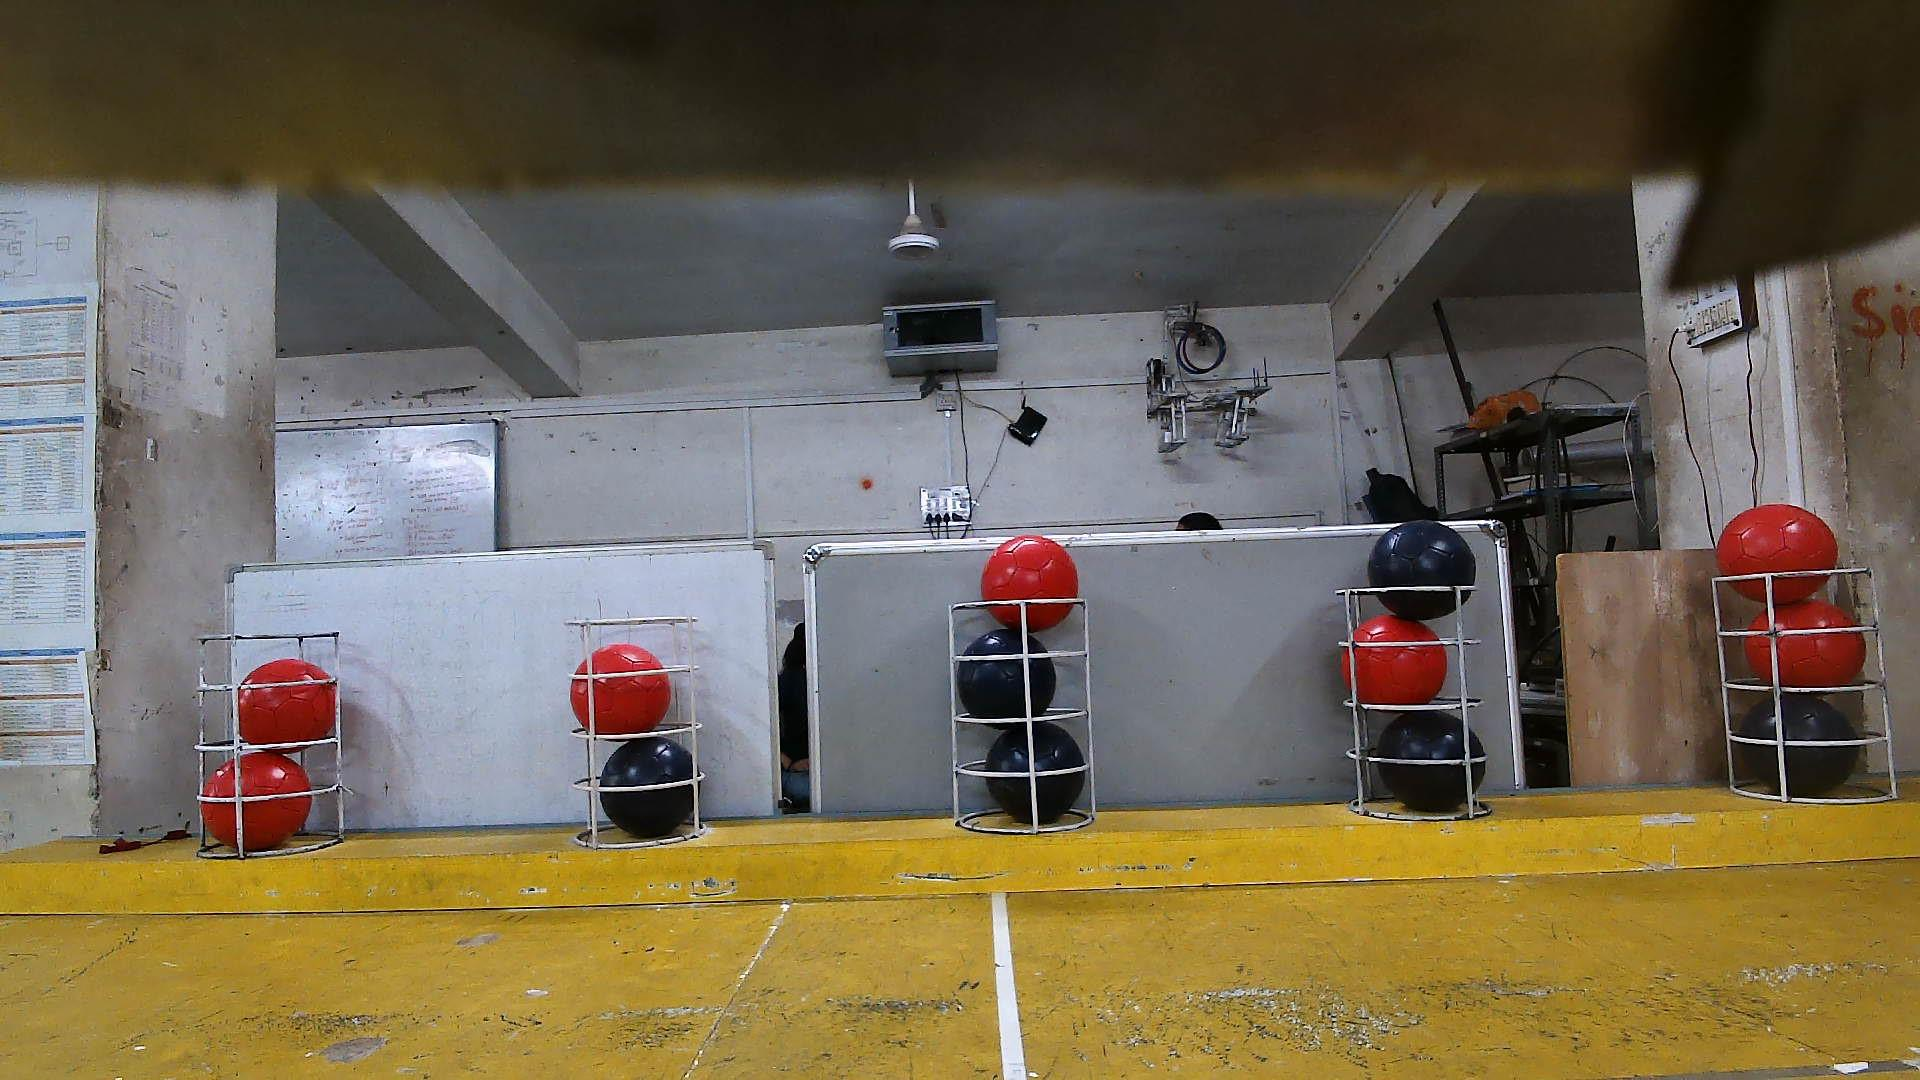dhoka: (1739, 694, 1861, 795), (1377, 711, 1486, 814), (1369, 521, 1477, 622), (984, 721, 1085, 825), (599, 737, 700, 837), (959, 629, 1056, 731)
laale: (1717, 502, 1837, 605), (203, 752, 313, 849), (1743, 600, 1866, 687), (570, 645, 671, 742), (1341, 615, 1448, 705), (982, 537, 1080, 630), (239, 661, 336, 753)
